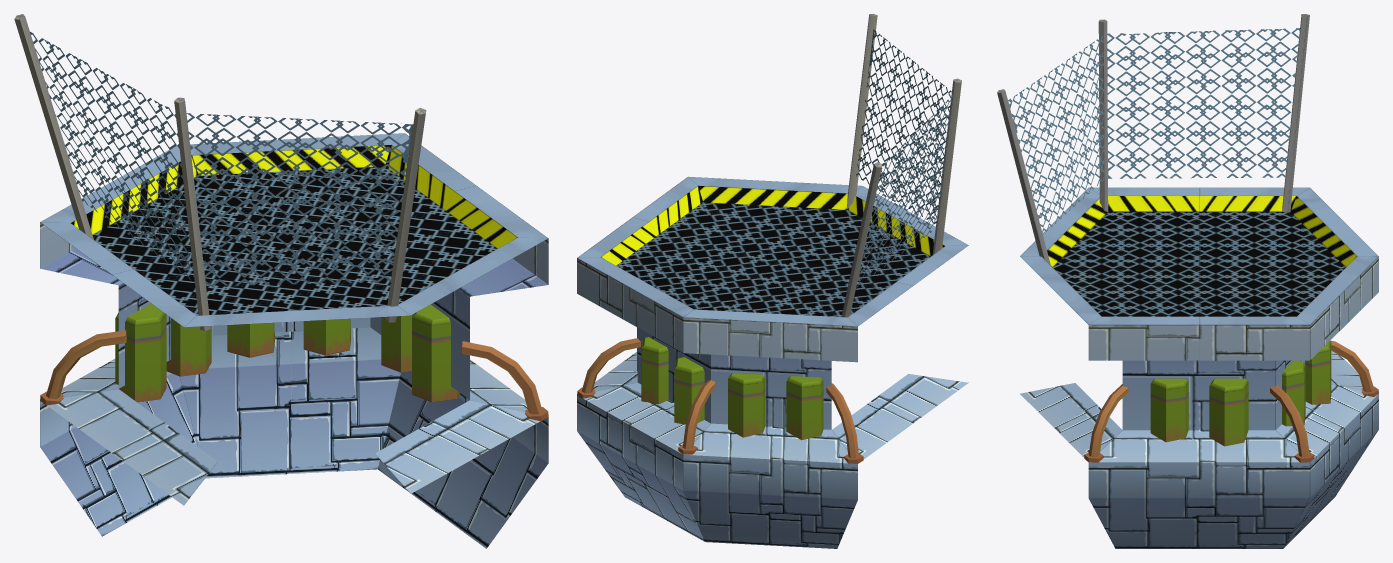
File: JC_ModPanels_EnemyTile_I.obj
3 views of the same model, side by side, from view 1: azimuth 30°, elevation 25°; view 2: azimuth 150°, elevation 25°; view 3: azimuth 270°, elevation 25° (orthographic). The views are drawn at different scales.
Parts seen in each view (by area): view 1: JC_ModPanels_EnemyTile_I; view 2: JC_ModPanels_EnemyTile_I; view 3: JC_ModPanels_EnemyTile_I.
Boxes of the visible parts, <box> form: JC_ModPanels_EnemyTile_I: <box>14,14,548,548</box>; JC_ModPanels_EnemyTile_I: <box>577,14,968,548</box>; JC_ModPanels_EnemyTile_I: <box>997,14,1378,548</box>.
Bounding box in the file's own units: 420 × 542 × 457.
1 material, 1 textured.
